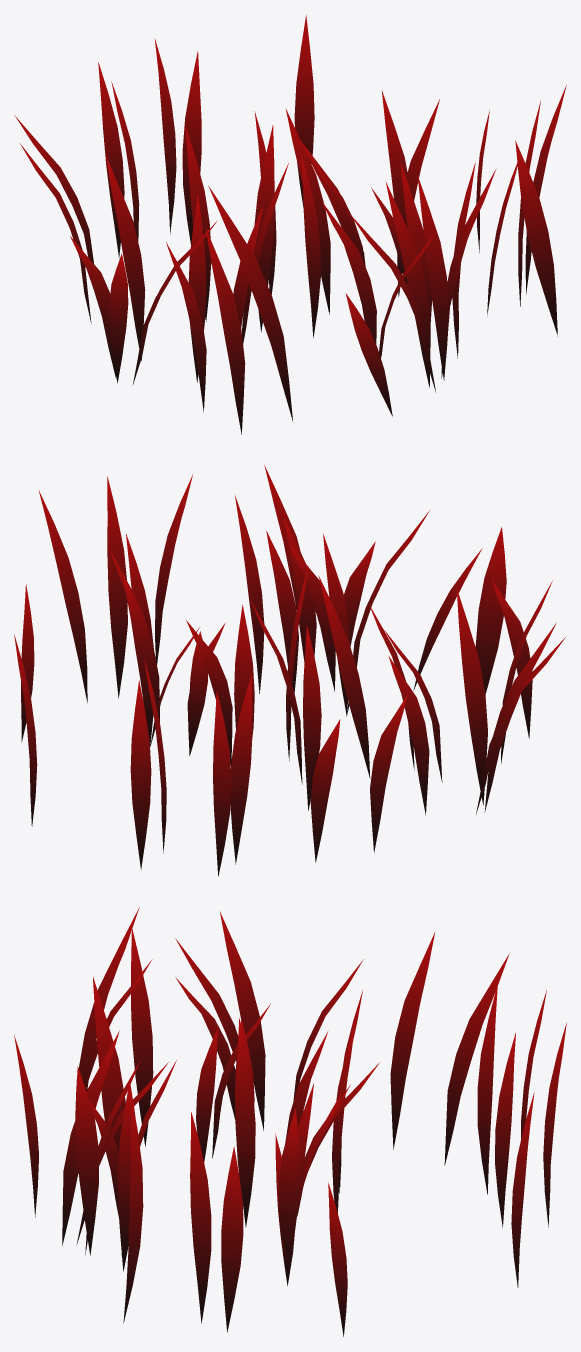
Rendered from Gress_F_2.fbx.
3 views of the same model, one above another, from view 1: azimuth 30°, elevation 25°; view 2: azimuth 150°, elevation 25°; view 3: azimuth 270°, elevation 25° (orthographic). The views are drawn at different scales.
Parts seen in each view (by area): view 1: Gress; view 2: Gress; view 3: Gress.
Boxes of the visible parts, x1,y1,x2,y2 form: Gress: (14, 15, 566, 434); Gress: (14, 465, 566, 876); Gress: (14, 907, 566, 1336).
Size of the model in its own units: 3.27 by 1.42 by 2.94.
